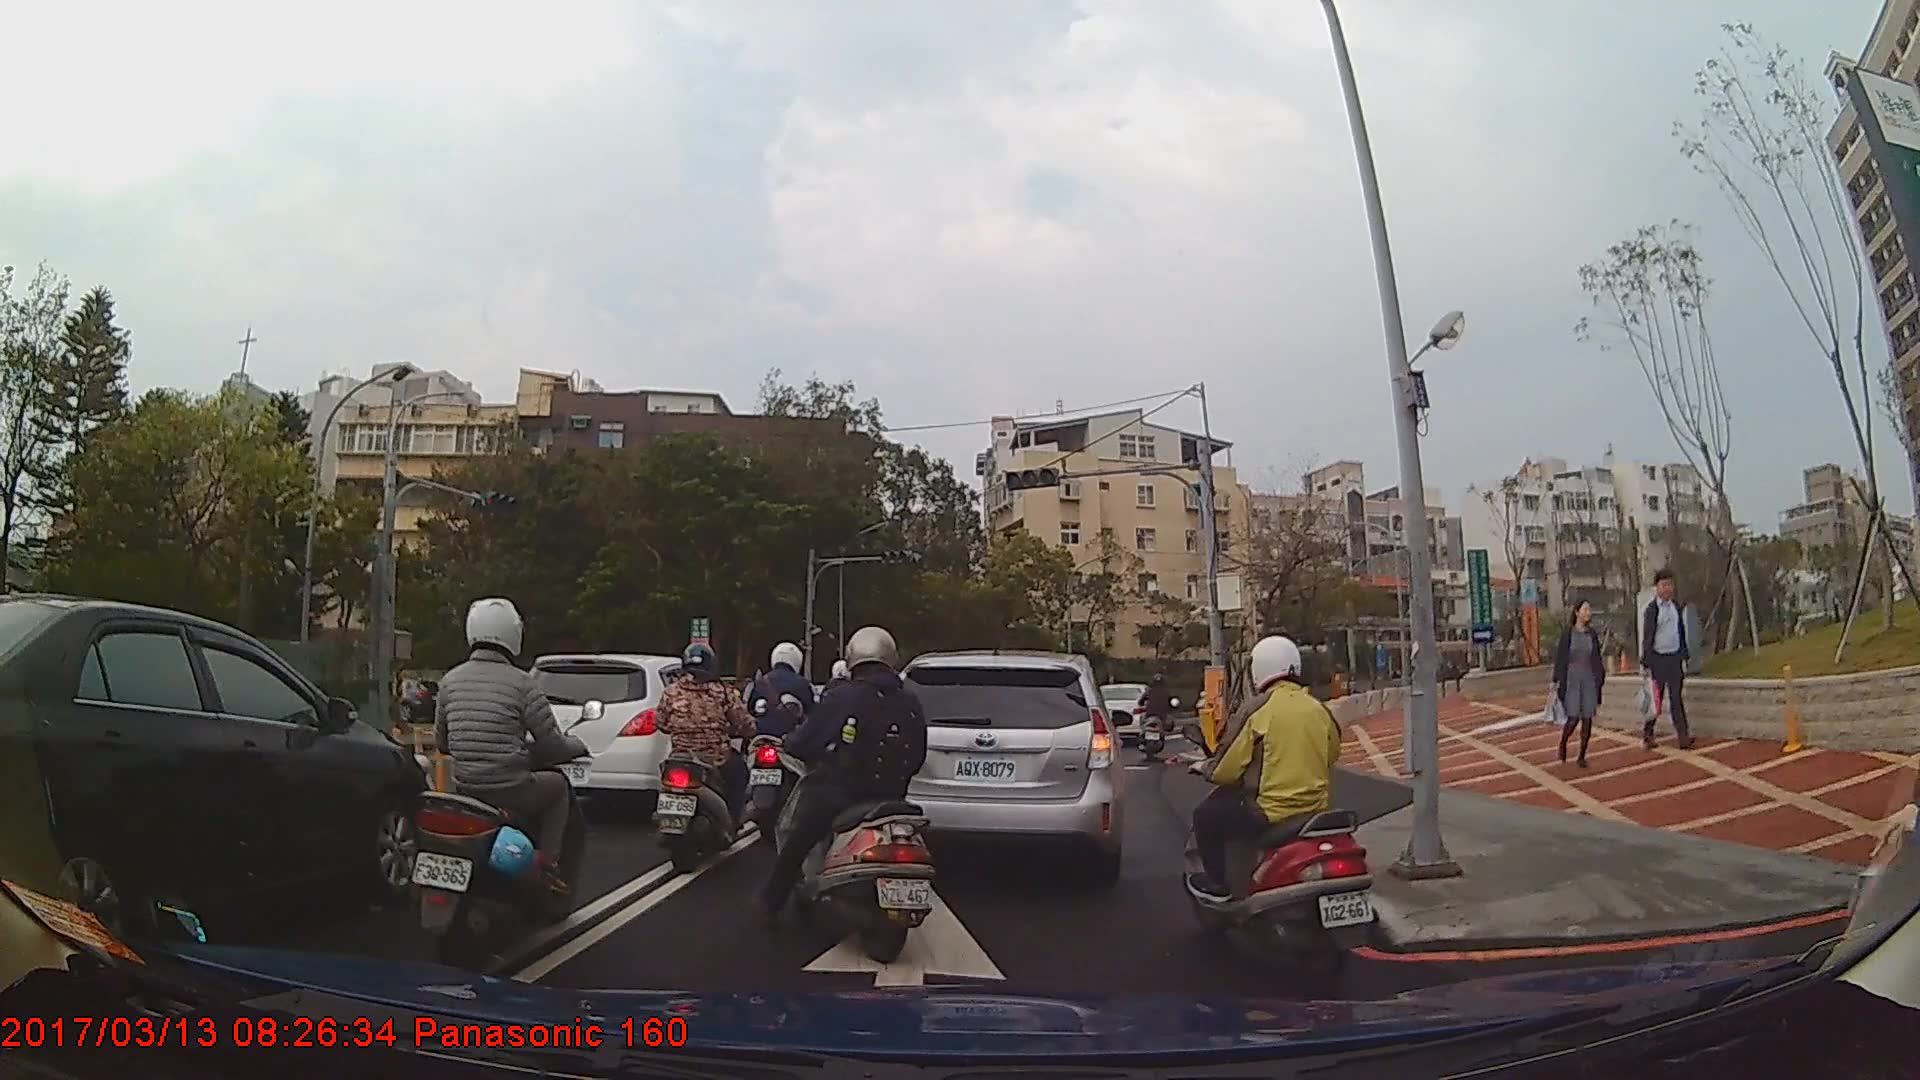pedestrian: (1542, 599, 1608, 771), (1639, 573, 1700, 753)
rider: (1179, 638, 1383, 983), (407, 598, 594, 966), (771, 628, 941, 970), (649, 645, 756, 877), (738, 637, 829, 843), (1138, 671, 1178, 759)
vehicle: (0, 593, 435, 953), (860, 649, 1123, 884), (506, 653, 756, 820), (364, 675, 443, 722)
